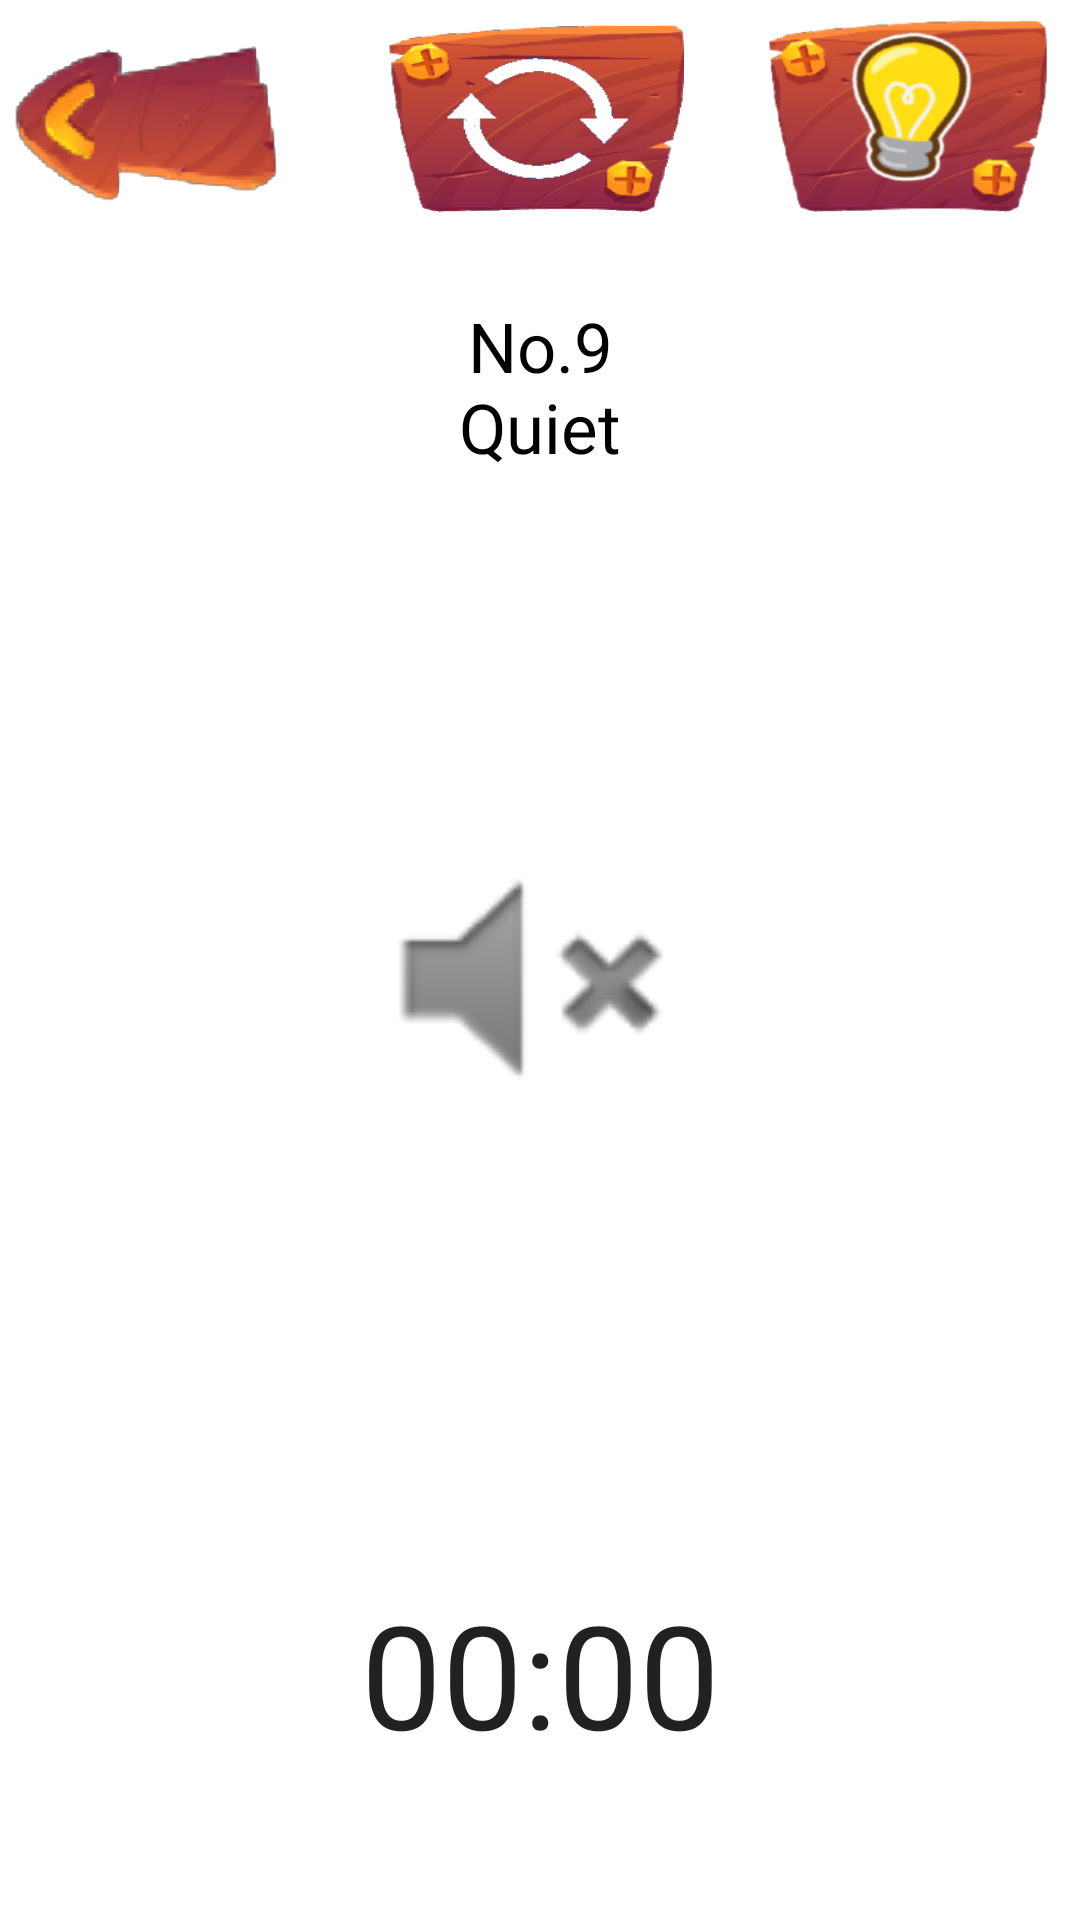

Icons on this 1080*1920 Android screen, each with the point to tap as [x,y]:
hint: [908,116]
lock silent mode: [531,978]
restart: [536,119]
